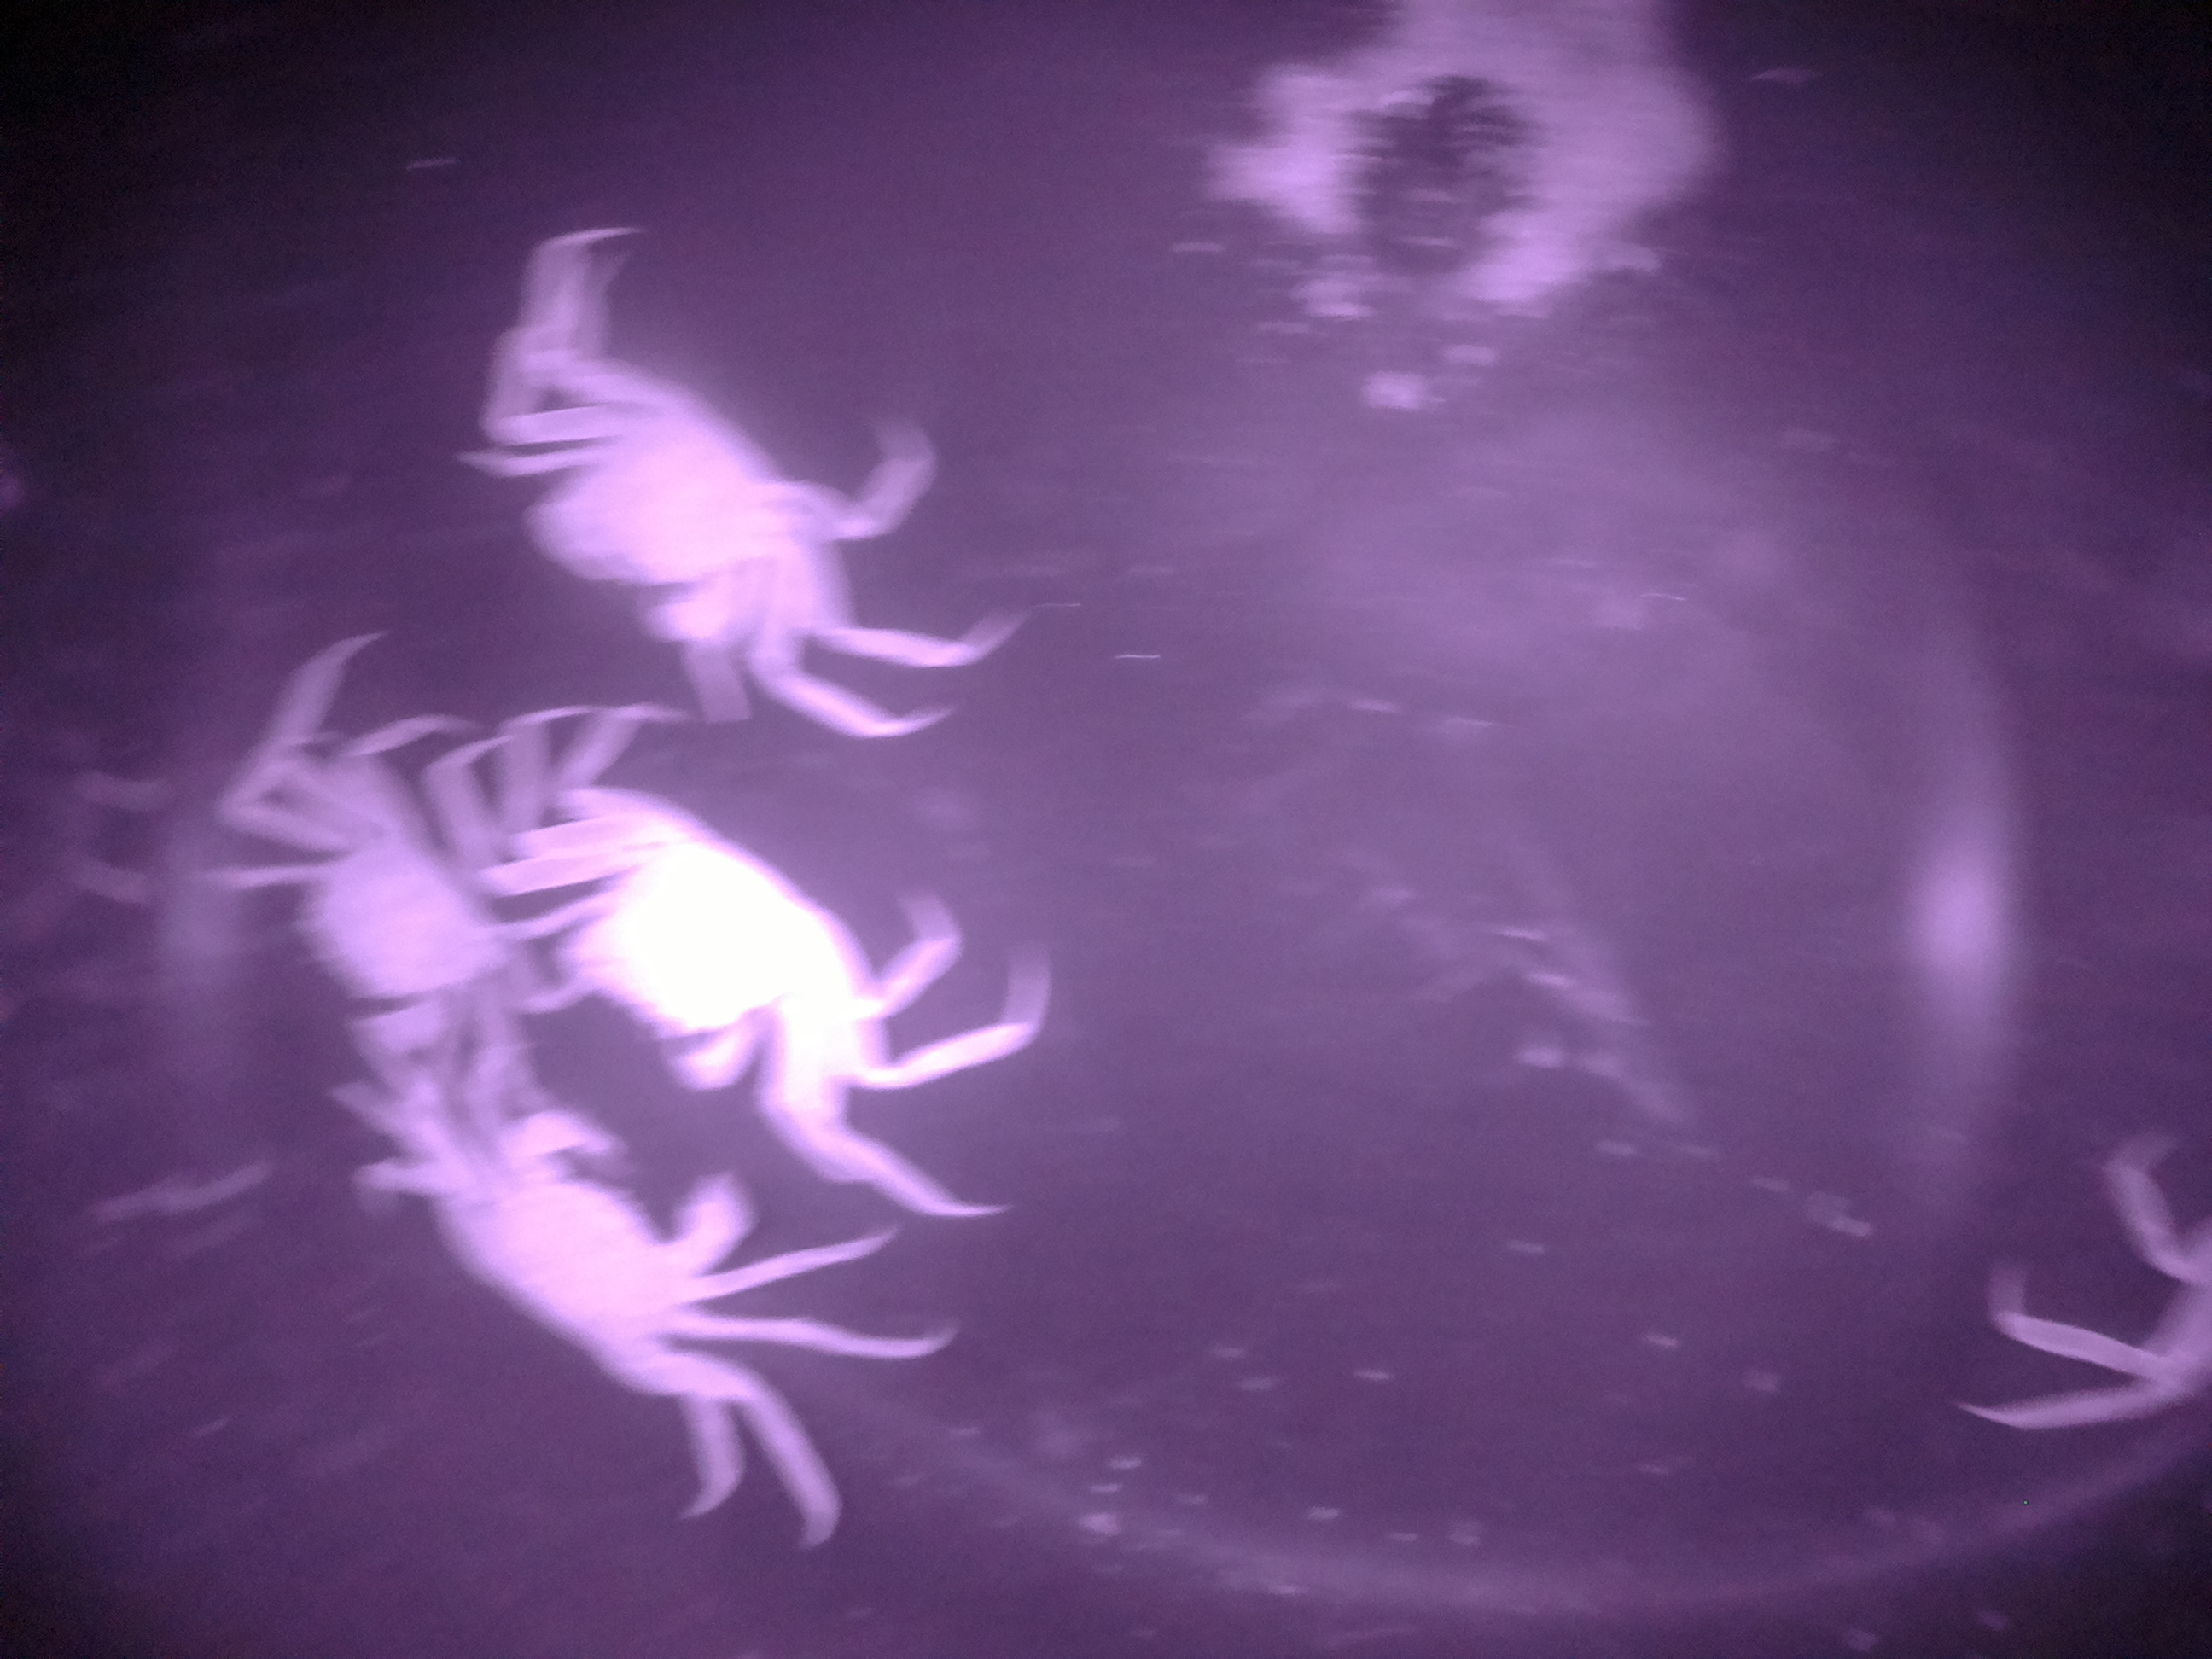Crab: (455, 186, 935, 760), (368, 1019, 756, 1516)
